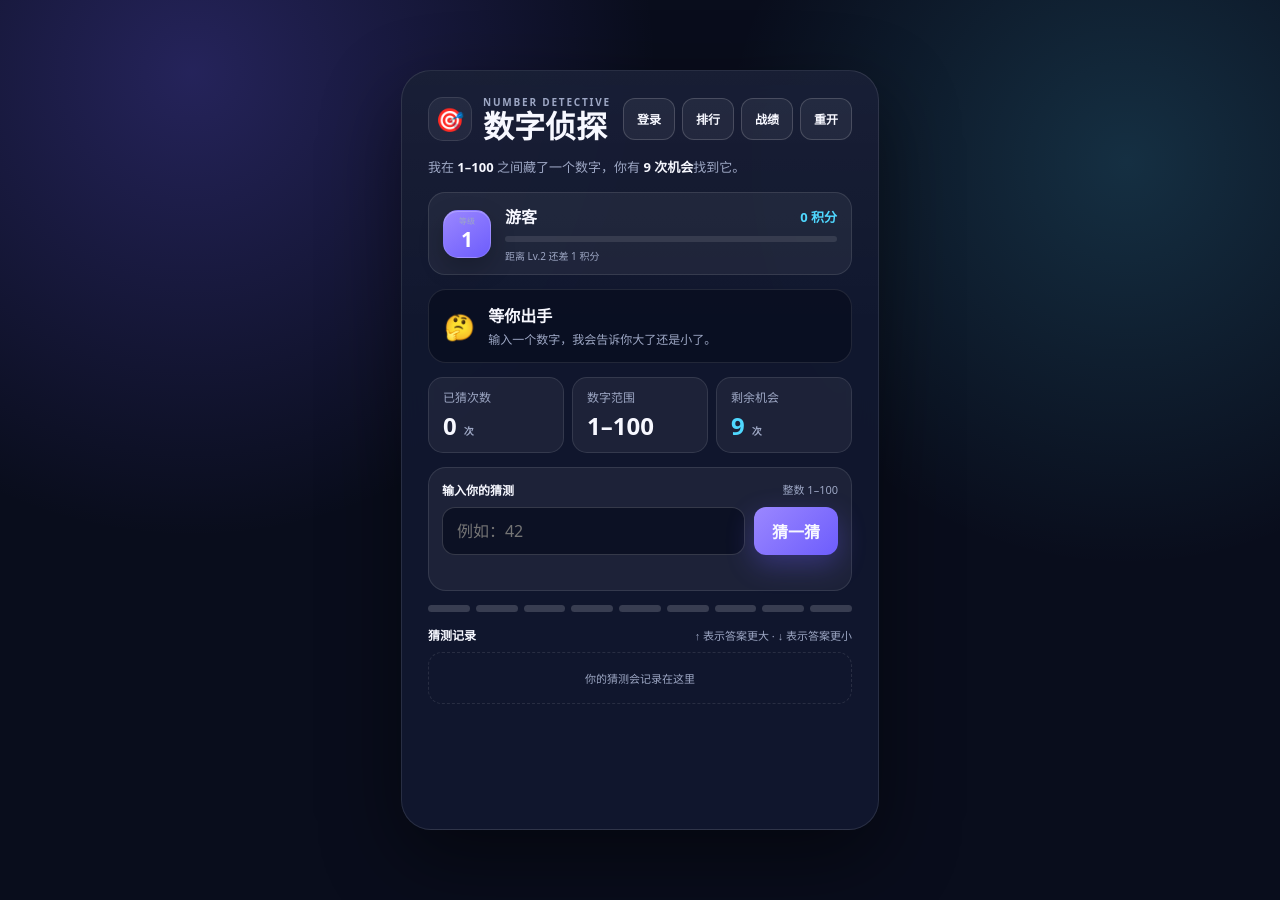
GamePage › rejects invalid input
Click the button "猜一猜" at (796, 531), box x1=754 y1=507 x2=838 y2=555
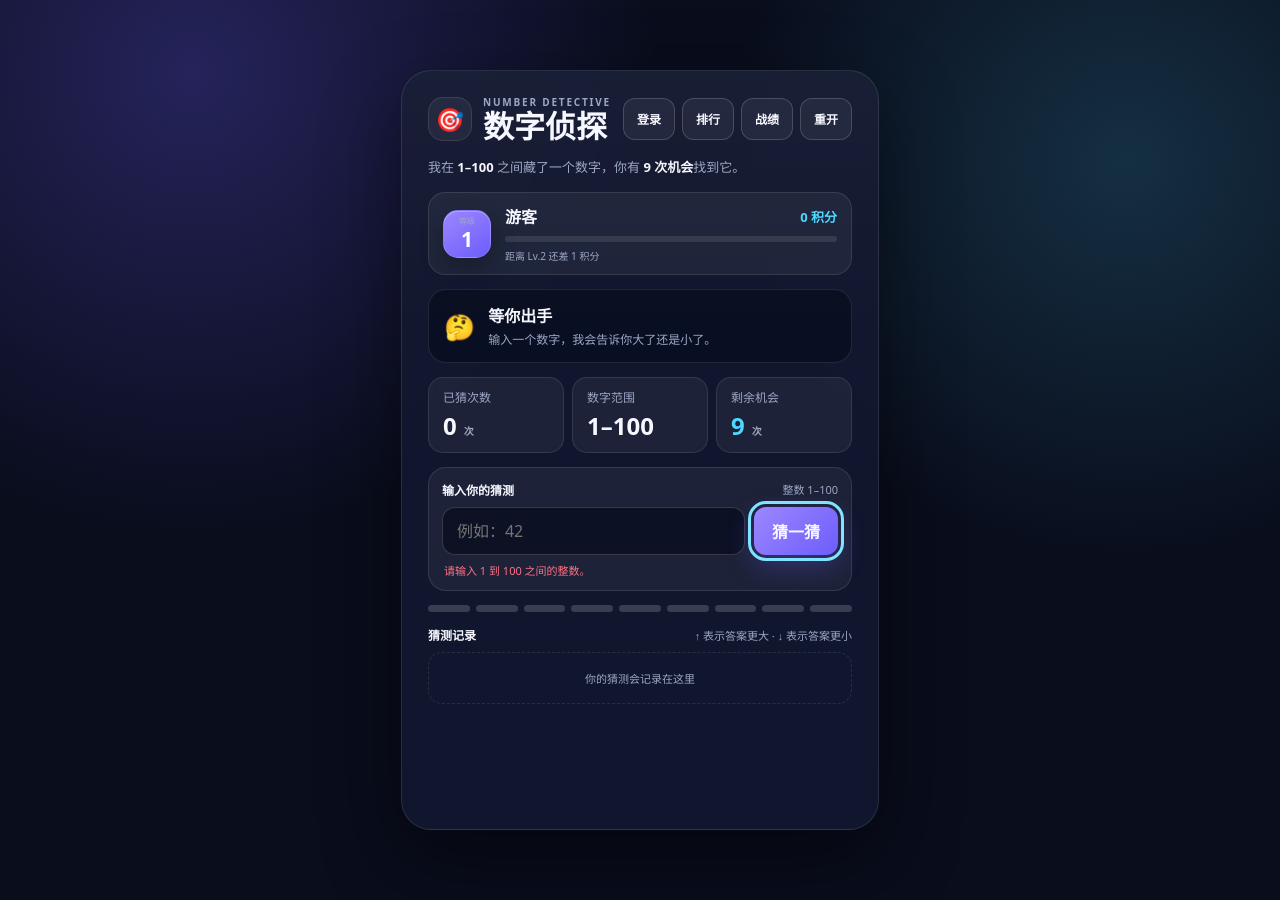
Now the message "请输入 1 到 100 之间的整数。" is shown, box x1=444 y1=563 x2=591 y2=578
